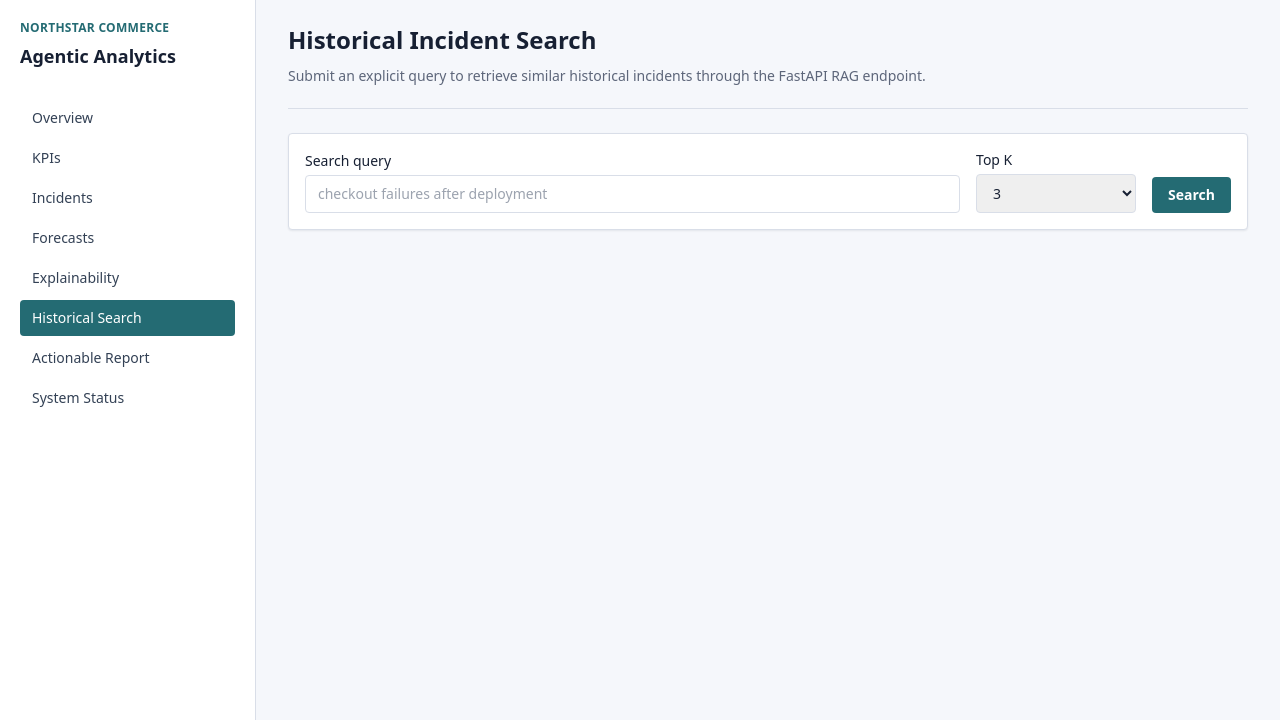
Scenario: dashboard pages › submits RAG search explicitly
In the field labelled "Search query": [633, 194] box top-left (305, 175), bottom-right (960, 213), type "checkout"
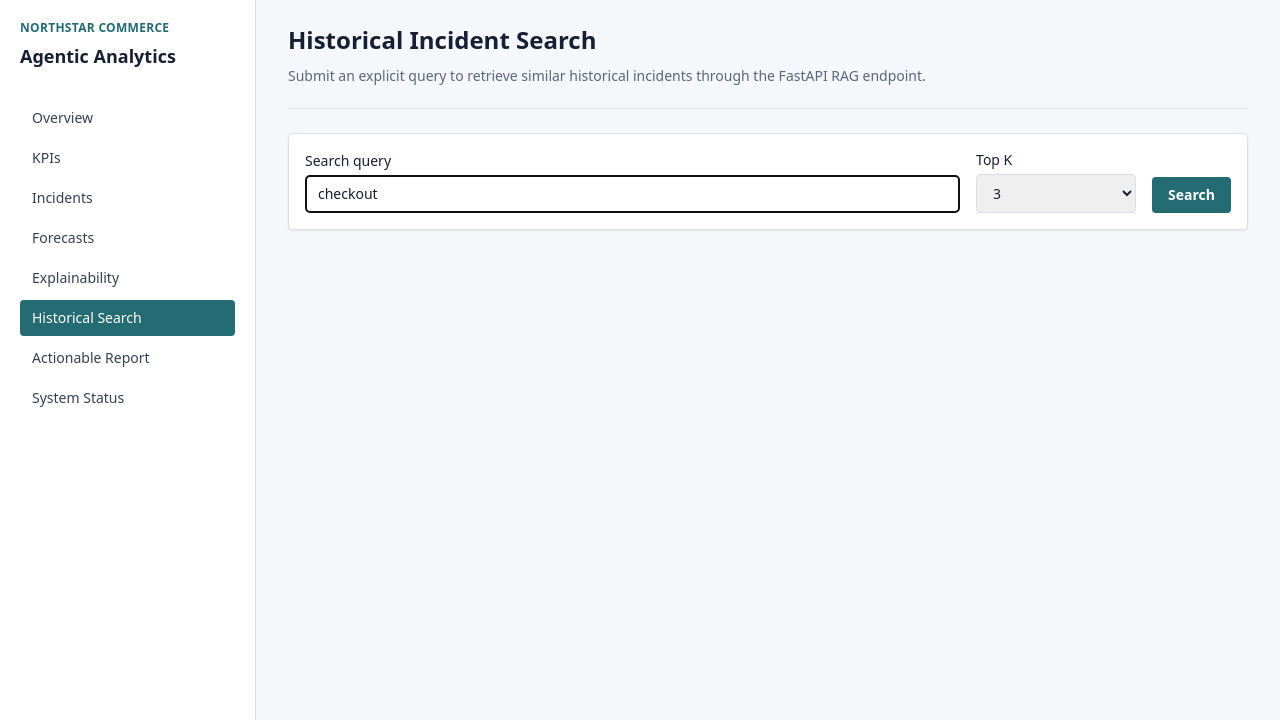
Click the button "Search": [1192, 195] box top-left (1152, 177), bottom-right (1231, 213)
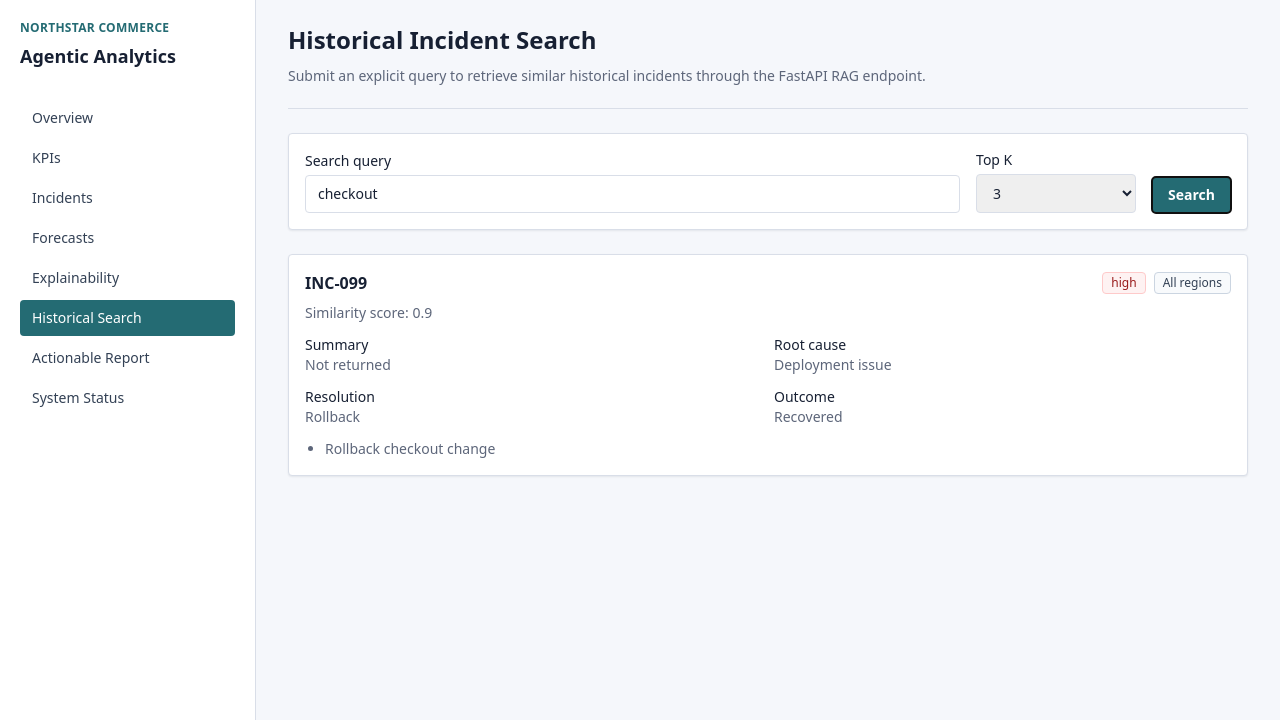
Result: the heading "INC-099" is shown at top-left (305, 271), bottom-right (367, 295)
